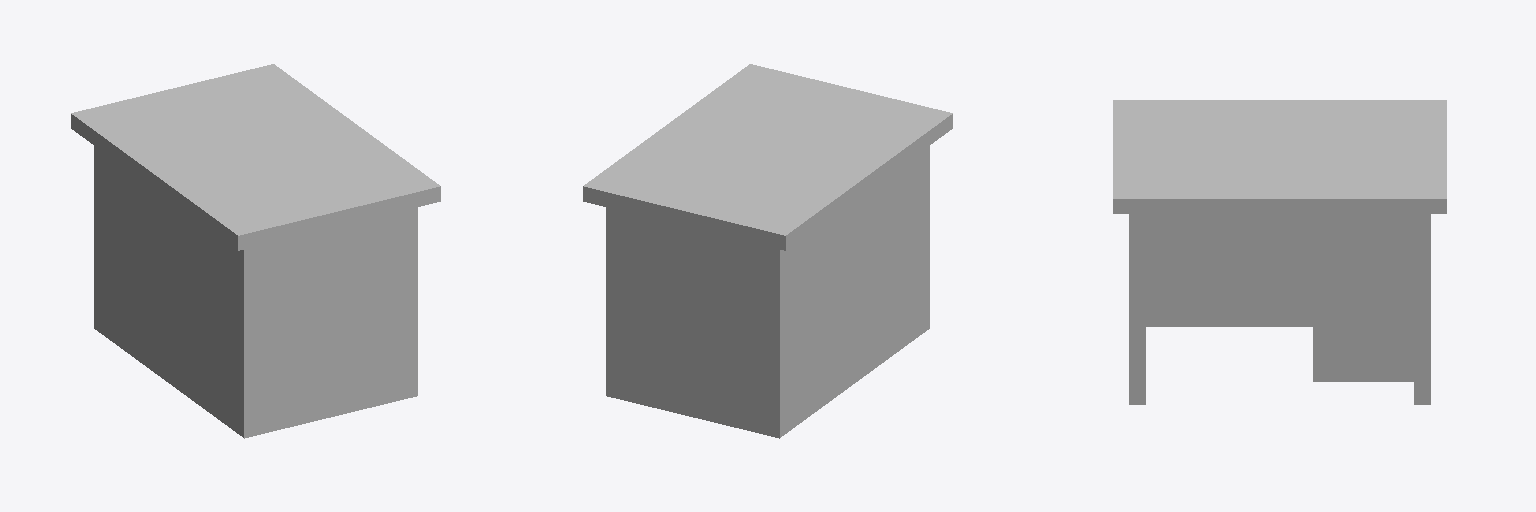
File: desk.obj
The picture shows the model from 3 angles: view 1: azimuth 30°, elevation 25°; view 2: azimuth 150°, elevation 25°; view 3: azimuth 270°, elevation 25°; orthographic projection.
Visible parts, largest first — view 1: table_Cube.002; view 2: table_Cube.002; view 3: table_Cube.002.
Boxes of the visible parts, x1=… form: table_Cube.002: x1=71, y1=64, x2=440, y2=438; table_Cube.002: x1=583, y1=64, x2=952, y2=438; table_Cube.002: x1=1113, y1=100, x2=1446, y2=404.
Bounding box in the file's own units: 0.7 × 0.7 × 1.